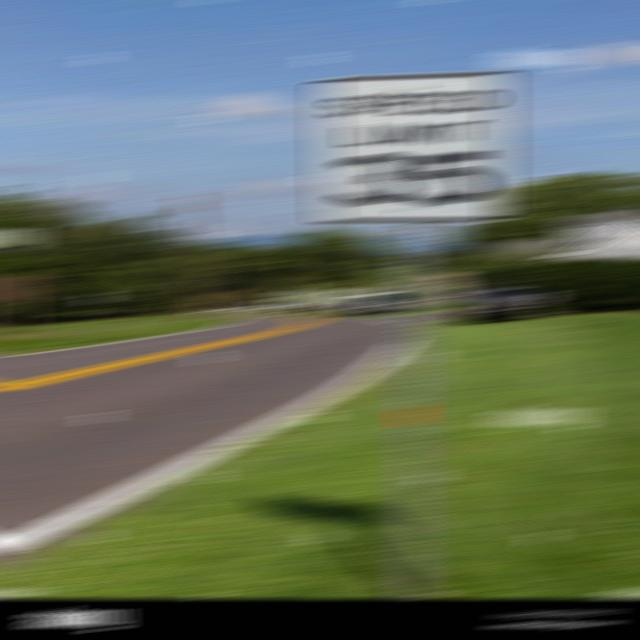speedLimit35: (313, 74, 511, 225)
